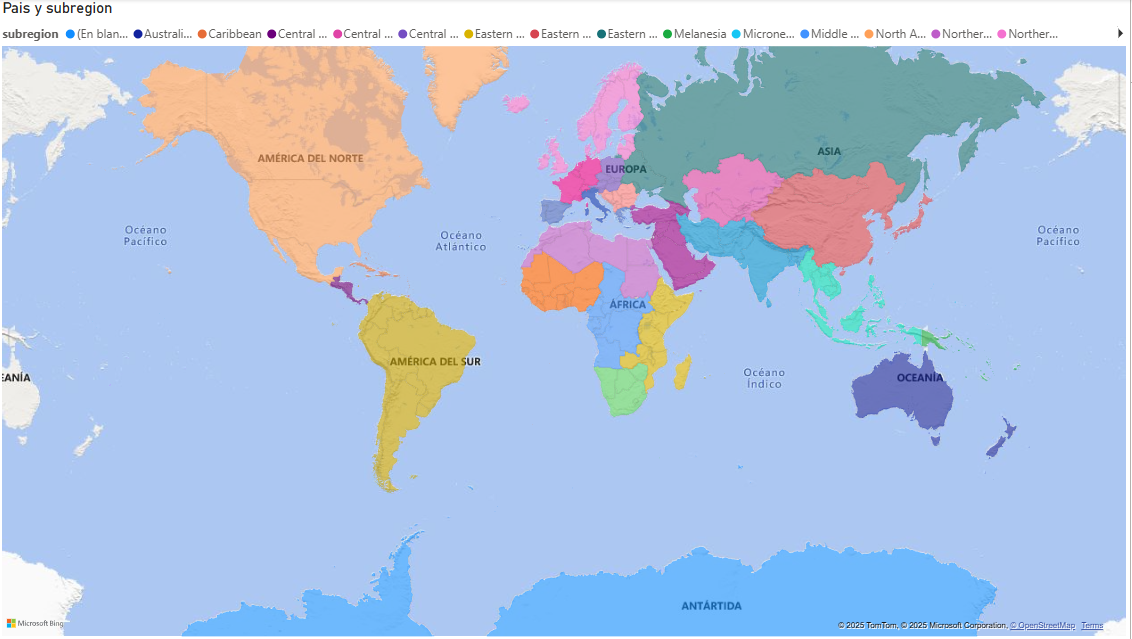

This screenshot's page, from the dashboard's own definition file:
{"tool":"powerbi","page":{"name":"Regiones","canvas":[1280,720],"ordinal":1},"visuals":[{"type":"filledMap","fields":{"Category":["countries.country_names.common_name"],"Series":["countries.subregion"]},"box":[10.1,0,1269.9,720.2],"z":0}]}

Visuals, with their boxes in screenshot pixels (x1, y1, x2, y2), scaled from the page's 1280x720 canvas onto the 1132x639 screenshot:
filledMap - countries.country_names.common_name x countries.subregion: (x1=9, y1=0, x2=1131, y2=638)
